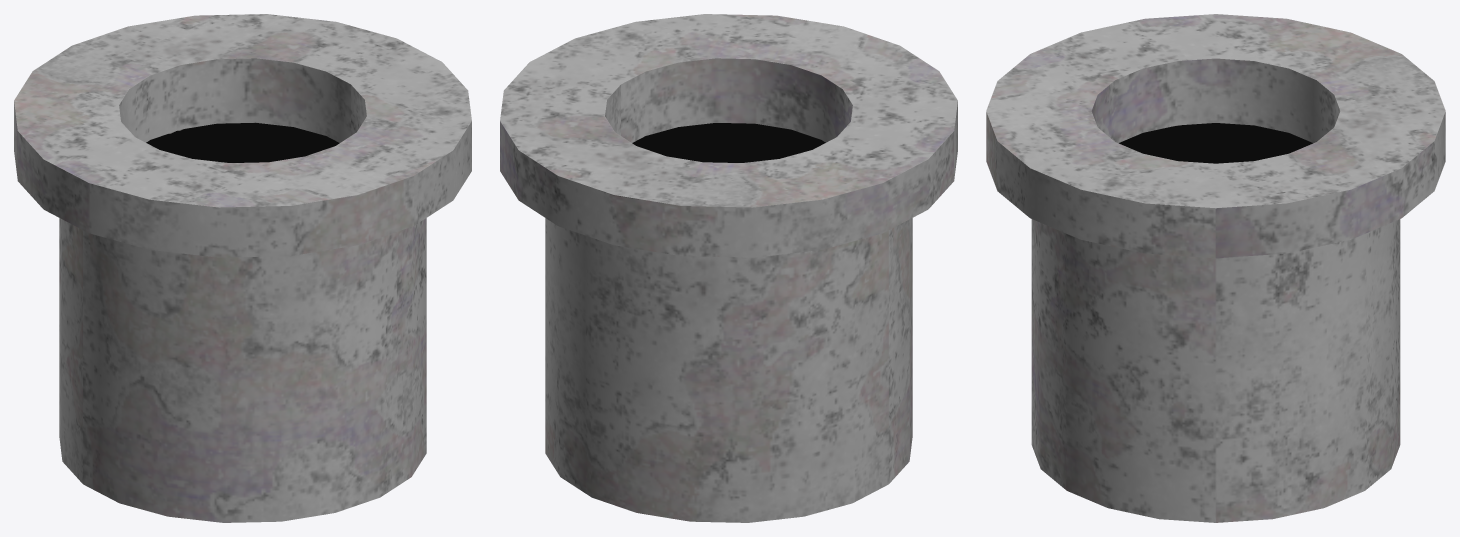
Rendered from jump_pipe.glb.
The picture shows the model from 3 angles, left to right: view 1: azimuth 30°, elevation 25°; view 2: azimuth 150°, elevation 25°; view 3: azimuth 270°, elevation 25°; orthographic projection.
Visible parts, largest first — view 1: pipe; view 2: pipe; view 3: pipe.
Part boxes in pixels (bbox=[...]): pipe: bbox=[14, 14, 471, 522]; pipe: bbox=[500, 14, 957, 522]; pipe: bbox=[986, 14, 1445, 522].
Size of the model in its own units: 0.9698 by 0.7777 by 0.9698.
1 material, 1 textured.
